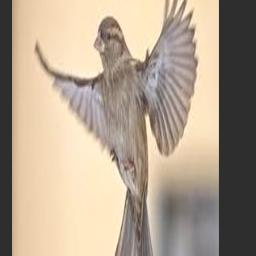Sparrow: (36, 0, 198, 256)
